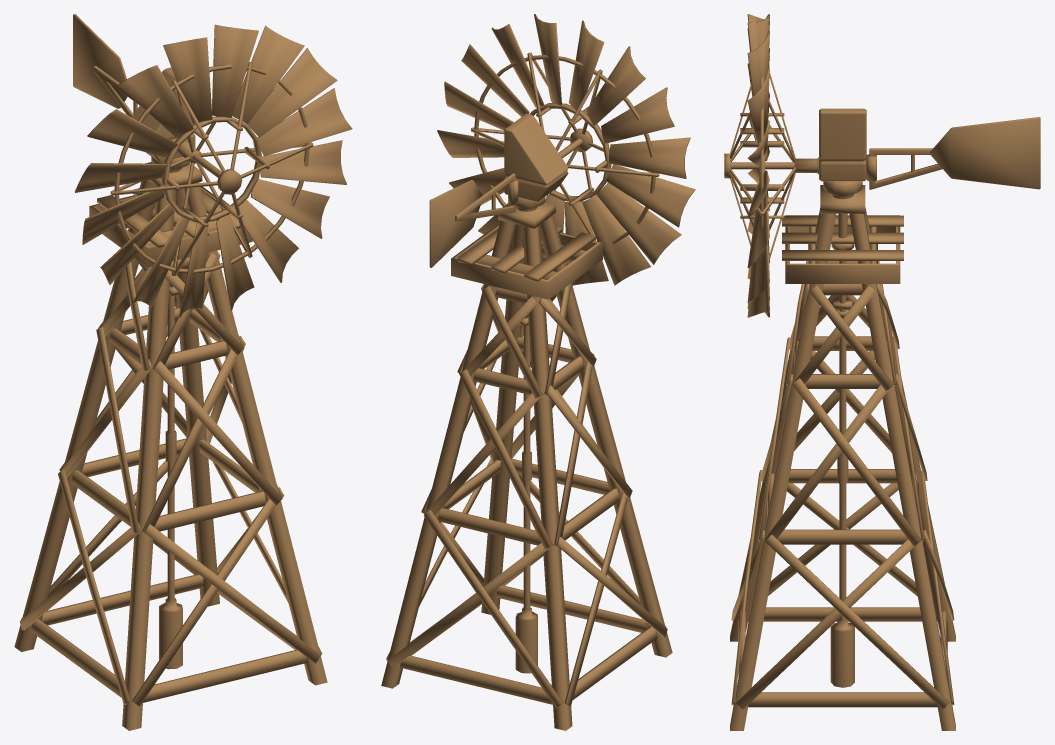
The model's file is windmill-retro.glb.
3 views of the same model, side by side, from view 1: azimuth 30°, elevation 25°; view 2: azimuth 150°, elevation 25°; view 3: azimuth 270°, elevation 25° (orthographic). The views are drawn at different scales.
Parts seen in each view (by area): view 1: FtrWindmillRetro_node4; view 2: FtrWindmillRetro_node4; view 3: FtrWindmillRetro_node4.
Boxes of the visible parts, x1,y1,x2,y2 form: FtrWindmillRetro_node4: (14,14,352,730); FtrWindmillRetro_node4: (381,14,695,730); FtrWindmillRetro_node4: (724,14,1040,730).
Bounding box in the file's own units: 14.54 × 34.58 × 15.15.
